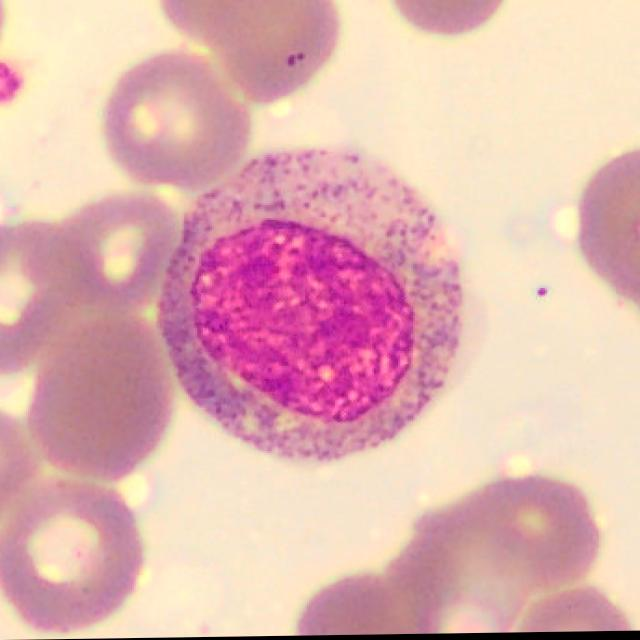Mielocito: (154, 148, 465, 464)
